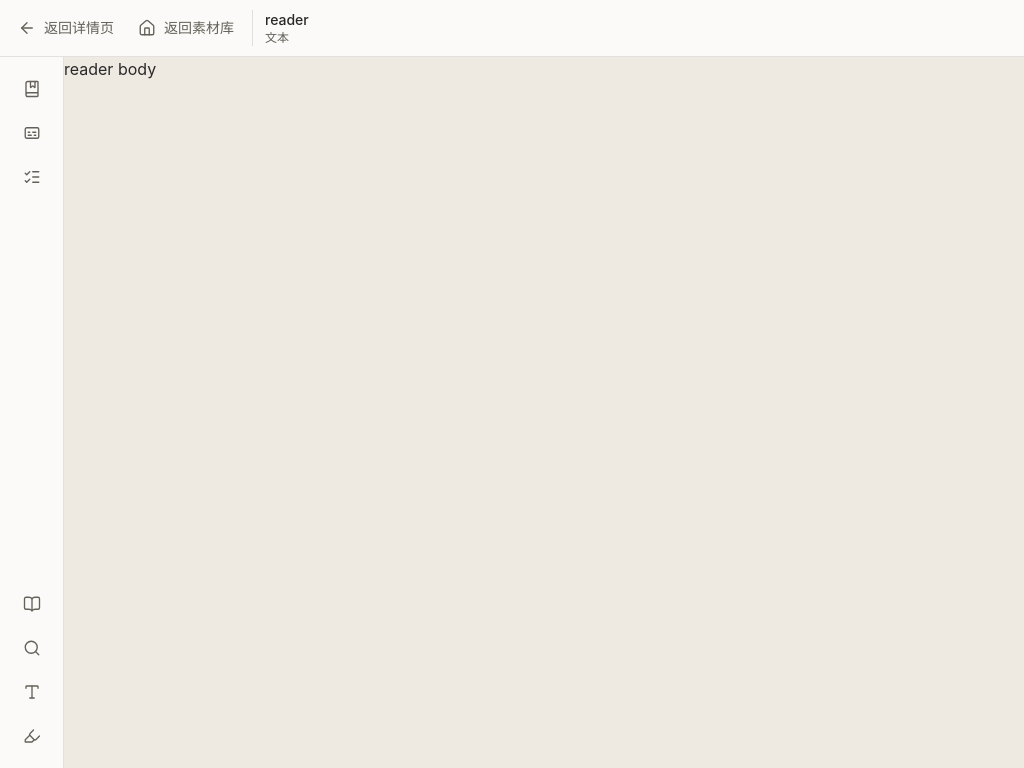
ReaderShell RF-02 stable slots and transient tools › does not clear a stable slot when a compact reader tool opens
What coordinates should you click on to do the following:
click the button named "查词"
I would click on:
 (32, 89)
Its box is top-left (12, 69), bottom-right (52, 109).
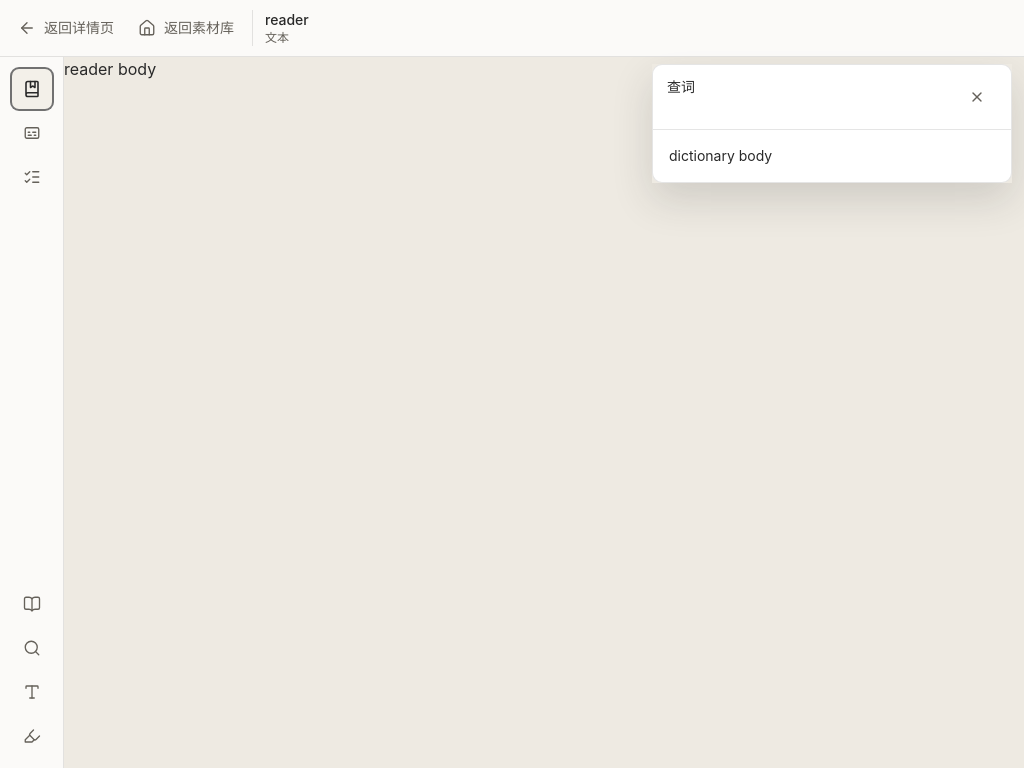
What coordinates should you click on to do the following:
click the button named "目录"
I would click on:
 (32, 604)
Its box is top-left (12, 584), bottom-right (52, 624).
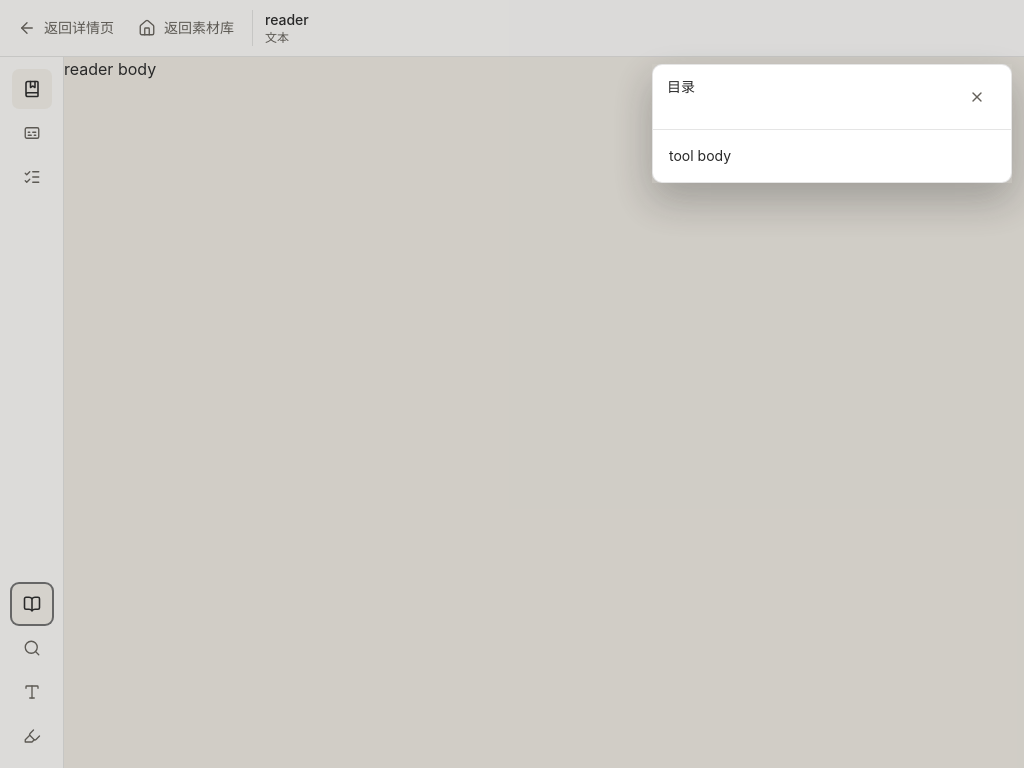
Now the dialog "目录" is shown, box top-left (652, 64), bottom-right (1012, 183)
